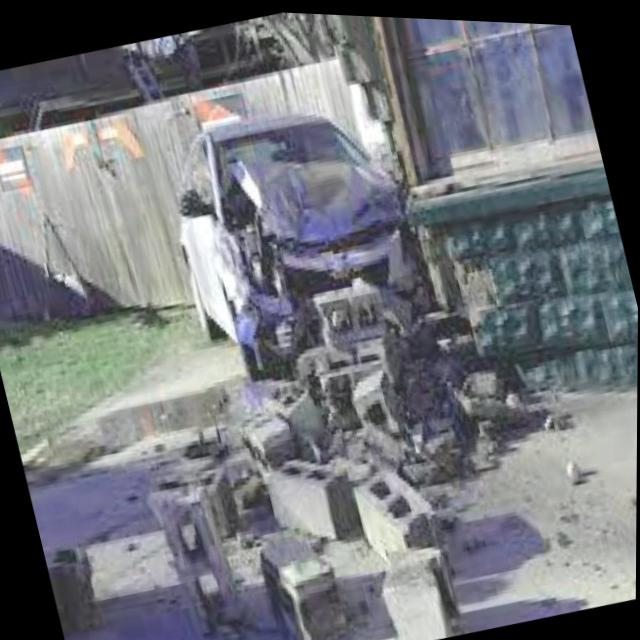Car-Damage: (196, 120, 435, 368)
